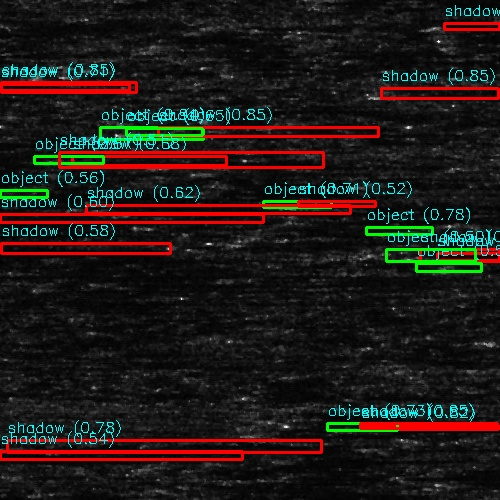rock: (353, 253, 500, 264), (315, 89, 450, 100), (342, 225, 467, 234), (379, 476, 494, 485), (423, 217, 500, 228), (341, 421, 424, 430), (37, 153, 142, 160), (194, 273, 267, 282), (260, 200, 343, 207), (346, 443, 419, 450), (4, 440, 45, 451), (194, 188, 247, 195), (118, 128, 171, 133), (188, 168, 241, 173), (232, 432, 285, 437), (471, 341, 500, 346)
shadow: (25, 440, 285, 451), (0, 240, 147, 255), (231, 273, 439, 282), (90, 153, 294, 160), (145, 128, 424, 133), (302, 200, 500, 207), (383, 89, 500, 100), (259, 432, 500, 437), (0, 489, 106, 500), (0, 214, 104, 225), (0, 83, 81, 96), (383, 421, 500, 430), (215, 168, 425, 173), (221, 188, 359, 195), (405, 225, 500, 234), (432, 253, 500, 264), (437, 476, 500, 485), (0, 150, 177, 153), (383, 443, 454, 450), (0, 452, 85, 457), (470, 217, 500, 228), (0, 304, 28, 309)
